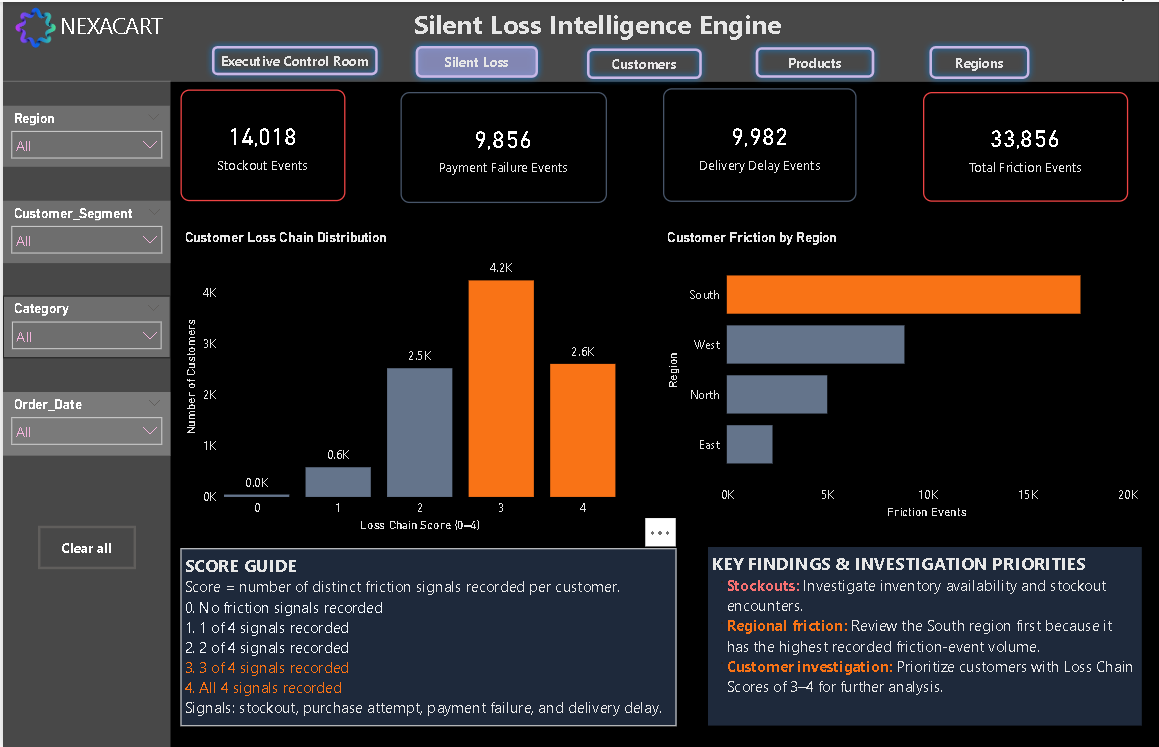

What the dashboard file says about the page in this screenshot:
{"tool":"powerbi","page":{"name":"Silent Loss","canvas":[1425,919],"ordinal":1},"visuals":[{"type":"textbox","box":[0,0,1424.4,98.6],"z":0},{"type":"shape","box":[0,97,206.3,822.3],"z":1000},{"type":"slicer","fields":{"Values":["customers.Region"]},"box":[0,127.6,205.8,75.5],"z":2000},{"type":"slicer","fields":{"Values":["customers.Customer_Segment"]},"box":[0,244.8,206.3,77],"z":3000},{"type":"slicer","fields":{"Values":["products.Category"]},"box":[0,361.9,206.3,77],"z":4000},{"type":"slicer","fields":{"Values":["orders.Order_Date"]},"box":[0,480.4,206.3,78.5],"z":5000},{"type":"card","fields":{"Values":["customer_events.Stockout Events"]},"box":[218.5,108.5,203.2,137.5],"z":6000},{"type":"card","fields":{"Values":["customer_events.Payment Failure Events"]},"box":[489.7,110.9,254.1,137],"z":7000},{"type":"card","fields":{"Values":["customer_events.Delivery Delay Events"]},"box":[813.1,106.3,238.7,140.1],"z":8000},{"type":"card","fields":{"Values":["customer_events.Customer Friction Alert"]},"box":[1133.4,110.9,252.5,135.5],"z":9000},{"type":"clusteredColumnChart","title":"Customer Loss Chain Distribution","fields":{"Category":["CustomerLossScore.Loss Chain Score"],"Y":["CustomerLossScore.Customers by Loss Score"]},"box":[218.5,279.7,541,377.5],"z":10000},{"type":"clusteredBarChart","title":"Customer Friction by Region","fields":{"Category":["customers.Region"],"Y":["customer_events.Friction Events"]},"box":[813.1,280.3,589.8,361.9],"z":11000},{"type":"actionButton","box":[42.8,644.9,120.7,53.5],"z":12000},{"type":"actionButton","box":[249.1,45.8,220.1,52],"z":13000},{"type":"image","box":[0,0,82.5,59.6],"z":14000},{"type":"actionButton","box":[712.1,48.9,157.4,53.5],"z":15000},{"type":"actionButton","box":[499.7,45.8,166.6,55],"z":16000},{"type":"actionButton","box":[1133.9,45.8,139.1,56.5],"z":17000},{"type":"actionButton","box":[920,47.4,162,53.5],"z":18000},{"type":"textbox","box":[868.5,671.4,534.3,220.2],"z":19000},{"type":"textbox","box":[218.7,672.9,611.3,218.7],"z":20000}]}

Visuals, with their boxes in screenshot pixels (x1, y1, x2, y2), scaled from the page's 1425x919 canvas onto the 1159x747 screenshot:
textbox: BBox(0, 0, 1158, 80)
shape: BBox(0, 79, 168, 746)
slicer - customers.Region: BBox(0, 104, 167, 165)
slicer - customers.Customer_Segment: BBox(0, 199, 168, 262)
slicer - products.Category: BBox(0, 294, 168, 357)
slicer - orders.Order_Date: BBox(0, 390, 168, 454)
card - customer_events.Stockout Events: BBox(178, 88, 343, 200)
card - customer_events.Payment Failure Events: BBox(398, 90, 605, 202)
card - customer_events.Delivery Delay Events: BBox(661, 86, 855, 200)
card - customer_events.Customer Friction Alert: BBox(922, 90, 1127, 200)
"Customer Loss Chain Distribution" clusteredColumnChart: BBox(178, 227, 618, 534)
"Customer Friction by Region" clusteredBarChart: BBox(661, 228, 1141, 522)
actionButton: BBox(35, 524, 133, 568)
actionButton: BBox(203, 37, 382, 79)
image: BBox(0, 0, 67, 48)
actionButton: BBox(579, 40, 707, 83)
actionButton: BBox(406, 37, 542, 82)
actionButton: BBox(922, 37, 1035, 83)
actionButton: BBox(748, 39, 880, 82)
textbox: BBox(706, 546, 1141, 725)
textbox: BBox(178, 547, 675, 725)
